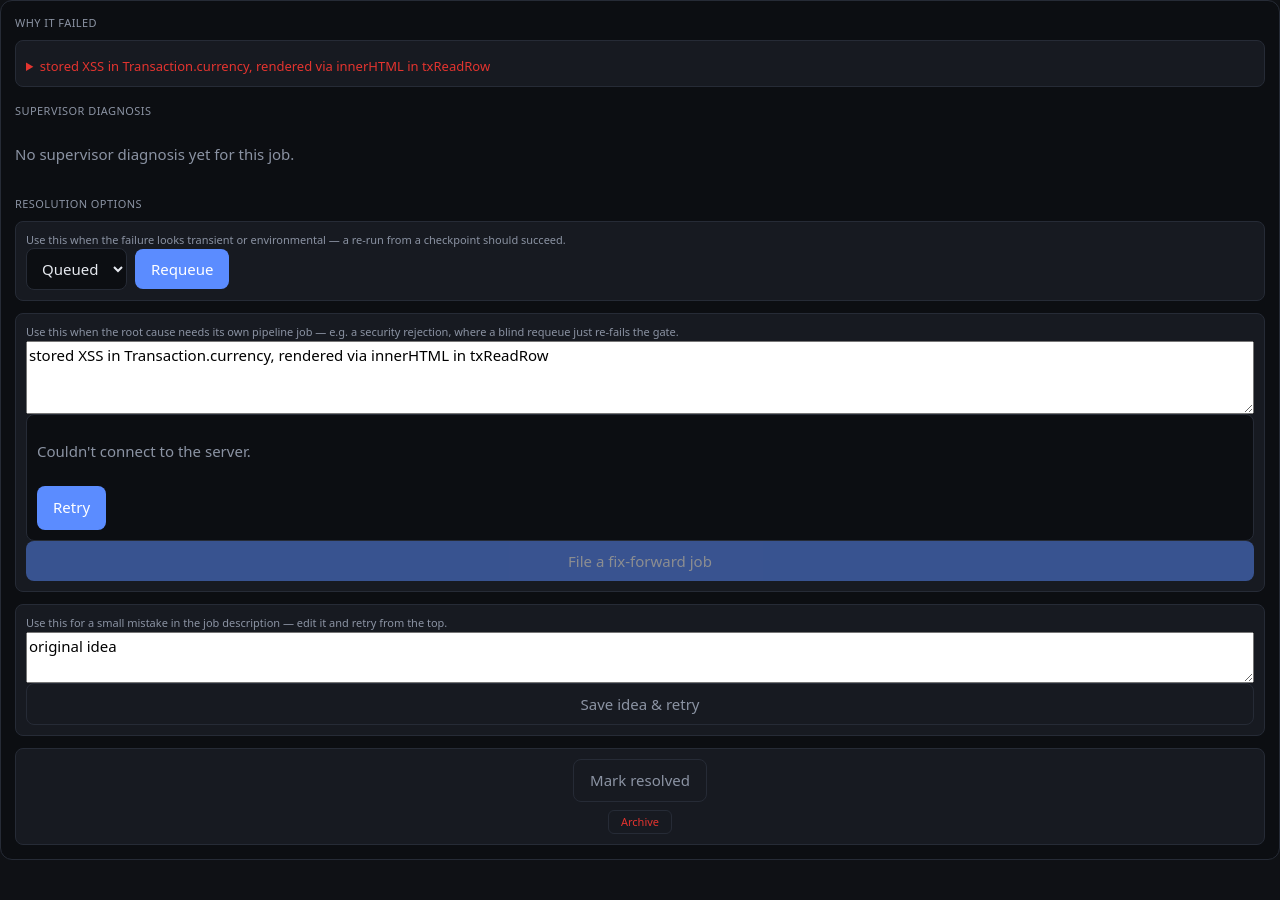
Test: JobResolutionPanel fix-forward dependent re-pointing › re-fetches dependents when Retry is clicked after a failed fetch
Click the button "Retry": (72, 508) [37,486,106,530]
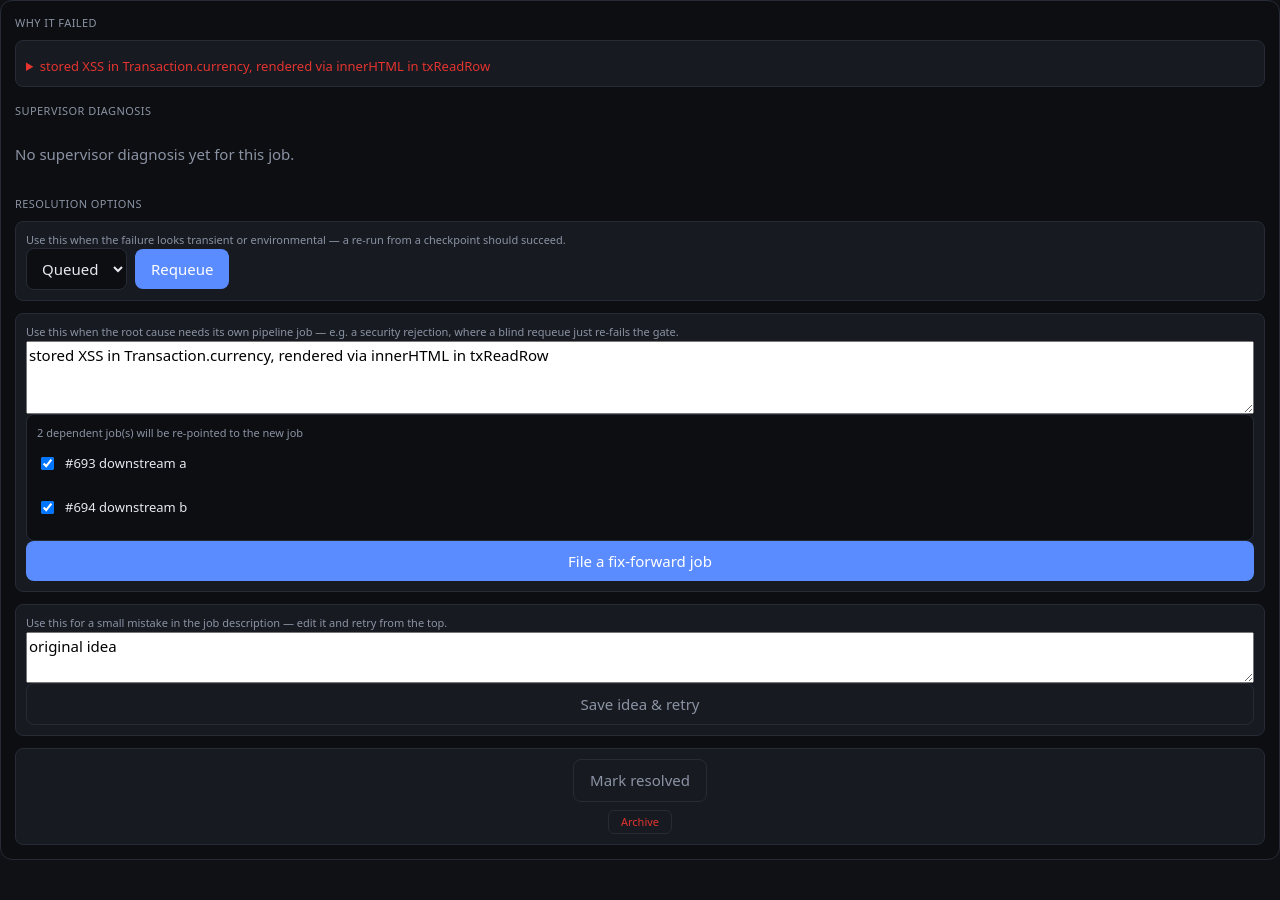
Result: the text "#693 downstream a" is shown at [41,454,186,472]
Result: the button "File a fix-forward job" is enabled at [26,540,1254,581]
